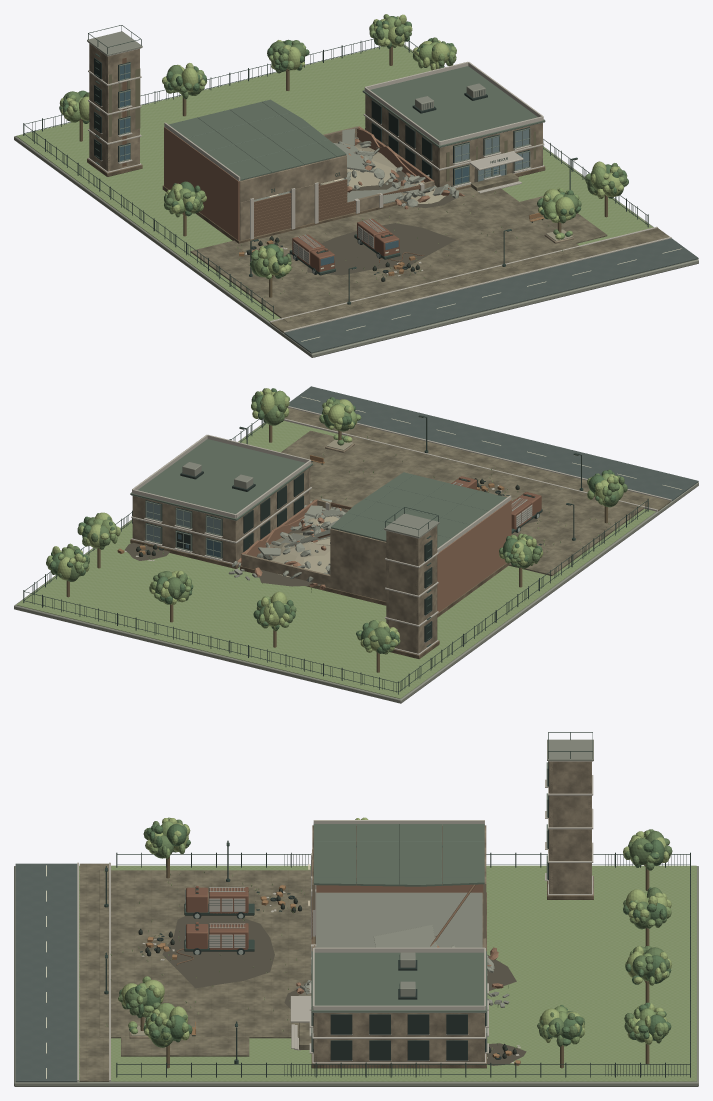
File: fire-station-abandoned.glb
3 renders of one model, top to bottom at view 1: azimuth 30°, elevation 25°; view 2: azimuth 150°, elevation 25°; view 3: azimuth 270°, elevation 25°, orthographic. The views are drawn at different scales.
Parts seen in each view (by area): view 1: 材质批次_grass, 材质批次_plaza_paving, 材质批次_sage_metal_roof, 材质批次_limestone, 材质批次_asphalt, 材质批次_poi_service_concrete, 材质批次_warm_cream_trim, 材质批次_poi_brick_red, 材质批次_street_metal, 材质批次_abandoned_soot_damp, 材质批次_leaf_2, 材质批次_leaf_0 (+13 smaller); view 2: 材质批次_grass, 材质批次_plaza_paving, 材质批次_limestone, 材质批次_sage_metal_roof, 材质批次_asphalt, 材质批次_poi_service_concrete, 材质批次_warm_cream_trim, 材质批次_poi_brick_red, 材质批次_street_metal, 材质批次_leaf_2, 材质批次_leaf_1, 材质批次_recess_shadow (+9 smaller); view 3: 材质批次_grass, 材质批次_plaza_paving, 材质批次_sage_metal_roof, 材质批次_poi_service_concrete, 材质批次_asphalt, 材质批次_limestone, 材质批次_warm_cream_trim, 材质批次_abandoned_soot_damp, 材质批次_street_metal, 材质批次_recess_shadow, 材质批次_leaf_1, 材质批次_leaf_3 (+7 smaller).
Boxes of the visible parts, <box> form: 材质批次_grass: <box>16,45,691,352</box>; 材质批次_plaza_paving: <box>190,173,669,332</box>; 材质批次_sage_metal_roof: <box>168,66,545,180</box>; 材质批次_limestone: <box>89,43,574,243</box>; 材质批次_asphalt: <box>284,238,698,353</box>; 材质批次_poi_service_concrete: <box>14,31,698,357</box>; 材质批次_warm_cream_trim: <box>88,42,671,332</box>; 材质批次_poi_brick_red: <box>164,126,464,240</box>; 材质批次_street_metal: <box>23,25,648,318</box>; 材质批次_abandoned_soot_damp: <box>307,141,523,275</box>; 材质批次_leaf_2: <box>59,14,623,318</box>; 材质批次_leaf_0: <box>60,14,627,296</box>; 材质批次_grass: <box>16,421,655,698</box>; 材质批次_plaza_paving: <box>281,407,670,575</box>; 材质批次_limestone: <box>132,443,437,653</box>; 材质批次_sage_metal_roof: <box>130,439,506,548</box>; 材质批次_asphalt: <box>289,386,698,501</box>; 材质批次_poi_service_concrete: <box>14,423,698,703</box>; 材质批次_warm_cream_trim: <box>124,406,671,654</box>; 材质批次_poi_brick_red: <box>237,499,511,611</box>; 材质批次_street_metal: <box>23,415,648,694</box>; 材质批次_leaf_2: <box>52,388,642,652</box>; 材质批次_leaf_1: <box>46,388,627,652</box>; 材质批次_recess_shadow: <box>145,471,542,642</box>; 材质批次_grass: <box>79,865,696,1081</box>; 材质批次_plaza_paving: <box>79,863,311,1081</box>; 材质批次_sage_metal_roof: <box>311,824,486,1012</box>; 材质批次_poi_service_concrete: <box>14,739,698,1086</box>; 材质批次_asphalt: <box>15,863,77,1082</box>; 材质批次_limestone: <box>129,761,591,1062</box>; 材质批次_warm_cream_trim: <box>77,761,593,1081</box>; 材质批次_abandoned_soot_damp: <box>162,915,526,1065</box>; 材质批次_street_metal: <box>104,732,690,1077</box>; 材质批次_recess_shadow: <box>140,761,548,1060</box>; 材质批次_leaf_1: <box>106,819,672,1056</box>; 材质批次_leaf_3: <box>119,824,671,1045</box>.
Bounding box in the file's own units: 60 × 19.84 × 80.
Materials: 31 (5 with a texture image).
